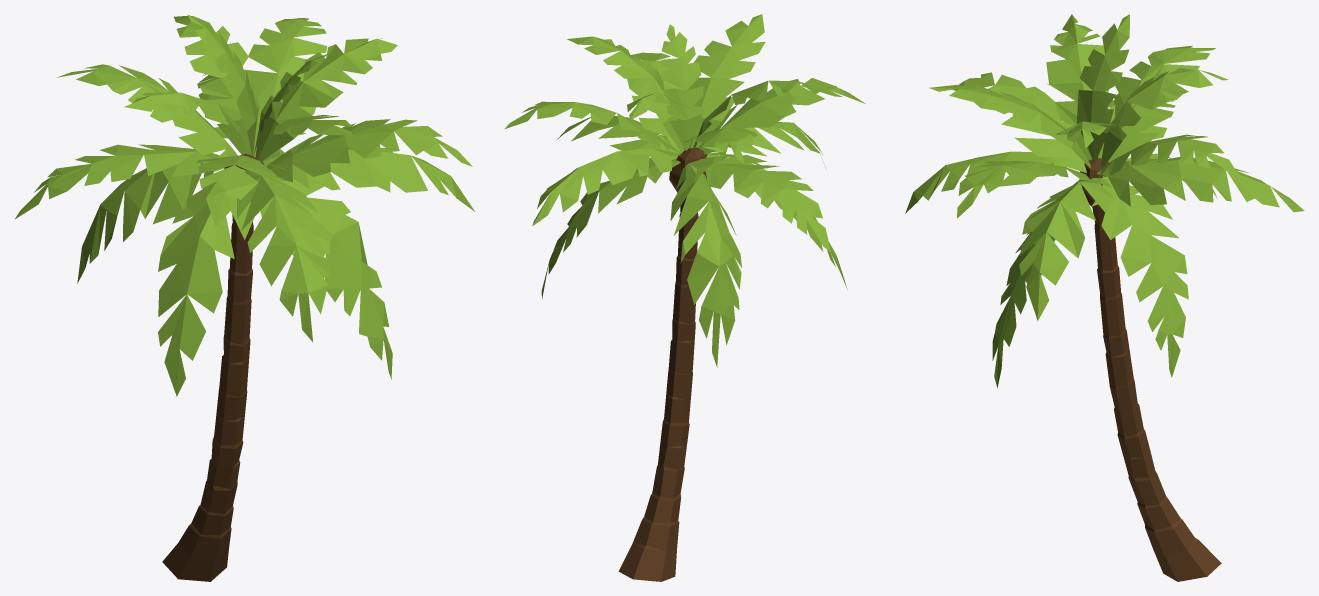
The model's file is tree-palm-mature-b.gltf.
3 views of the same model, side by side, from view 1: azimuth 30°, elevation 25°; view 2: azimuth 150°, elevation 25°; view 3: azimuth 270°, elevation 25° (orthographic). The views are drawn at different scales.
Visible parts, largest first — view 1: tree-palm-mature-b; view 2: tree-palm-mature-b; view 3: tree-palm-mature-b.
Boxes of the visible parts, x1,y1,x2,y2 form: tree-palm-mature-b: (15,14,474,581); tree-palm-mature-b: (504,14,865,581); tree-palm-mature-b: (905,14,1304,581).
Size of the model in its own units: 0.043 by 0.062 by 0.0426.
